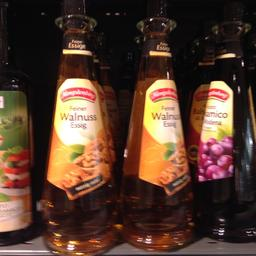vinegar: (124, 14, 198, 252), (45, 2, 112, 255), (192, 30, 255, 242), (0, 39, 40, 246)
